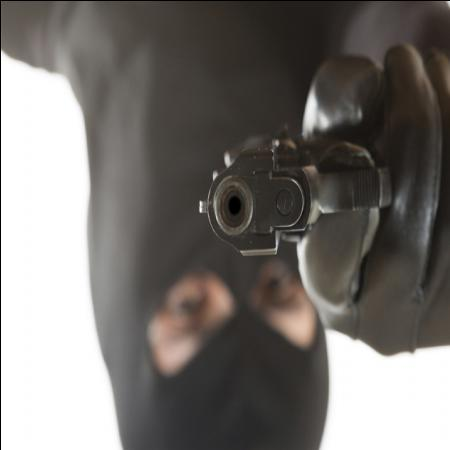Pistol: (188, 116, 398, 270)
